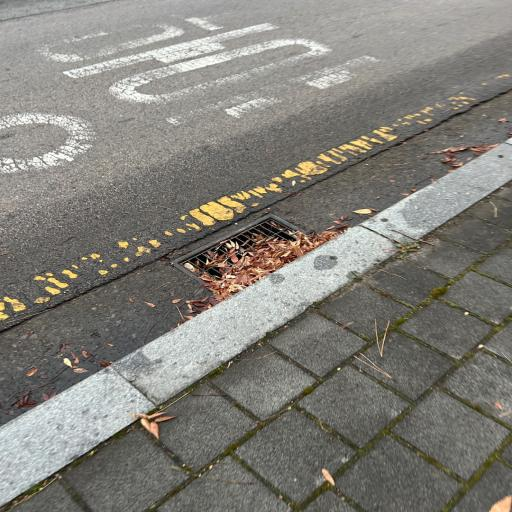debris: (202, 231, 321, 293), (186, 262, 198, 271), (273, 224, 279, 227)
drain: (182, 216, 322, 296)
